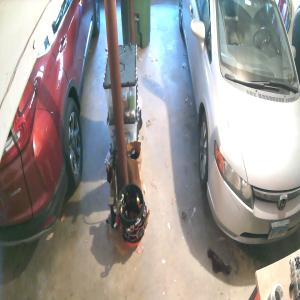garbage bin: (121, 0, 150, 50)
honda civic: (178, 0, 300, 241)
honda crv: (0, 0, 100, 256)
tool bucket: (116, 181, 149, 250)
